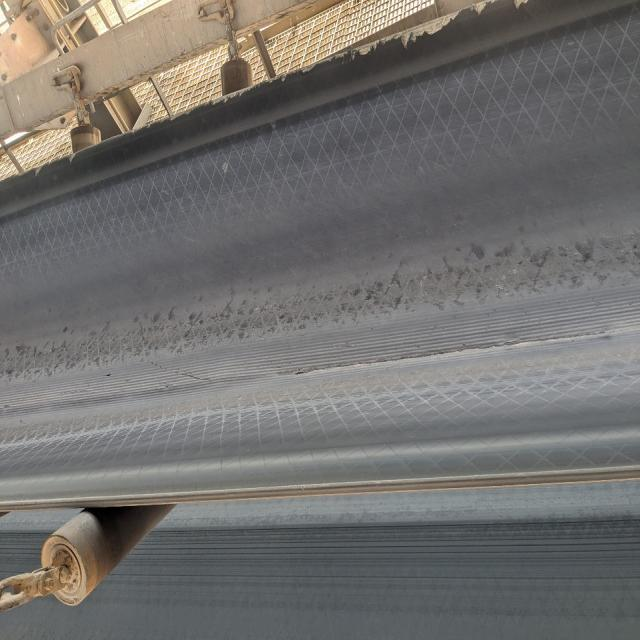Wear: (0, 282, 640, 423)
